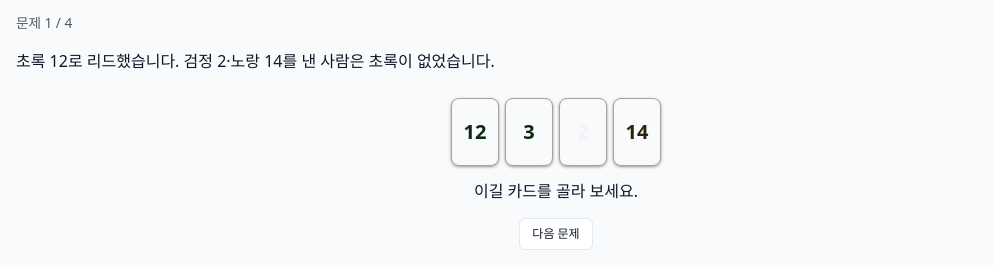
Test: TrickQuiz › 문제 1 의 정답은 보라 11
What coordinates should you click on to do the following:
click the button "다음 문제"
I would click on:
 (556, 234)
Its box is [519, 218, 593, 250].
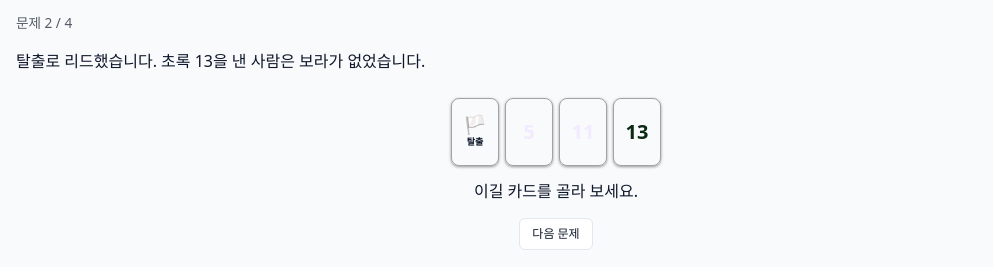
What coordinates should you click on to do the following:
click the button named "보라 11"
I would click on:
 (583, 132)
Its box is [559, 98, 607, 166].
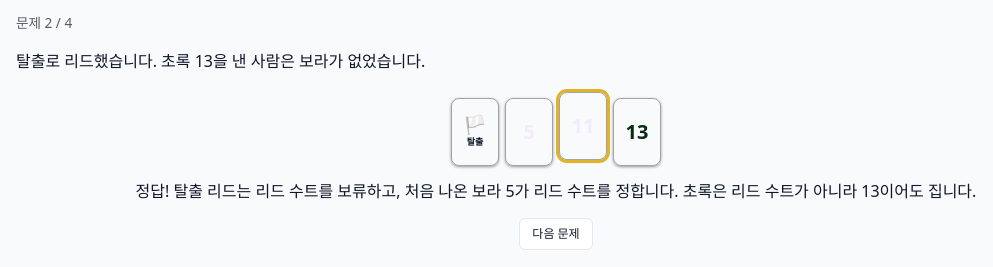
Expected: the message shows "정답!", [136, 180, 976, 202]
